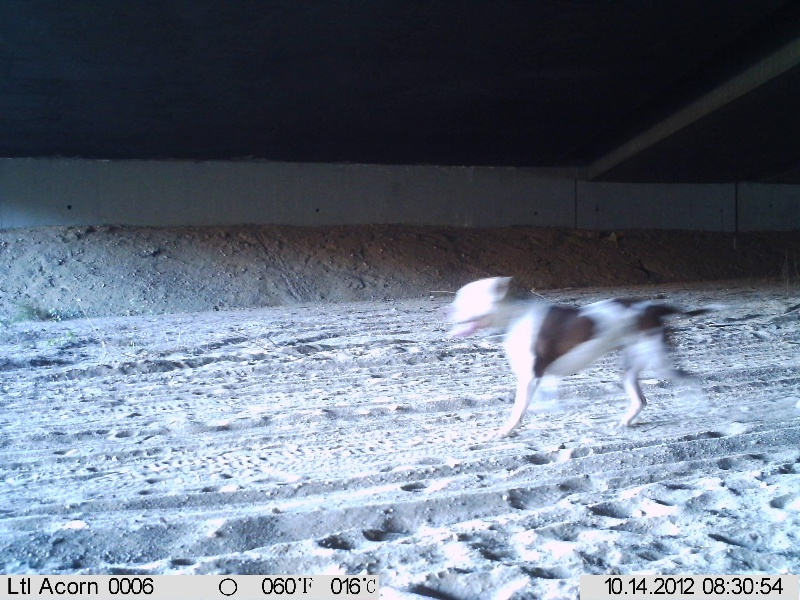dog: (442, 273, 733, 441)
